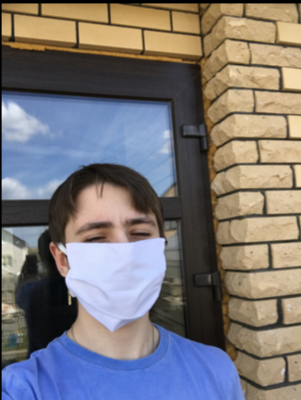with_mask: (58, 201, 165, 333)
